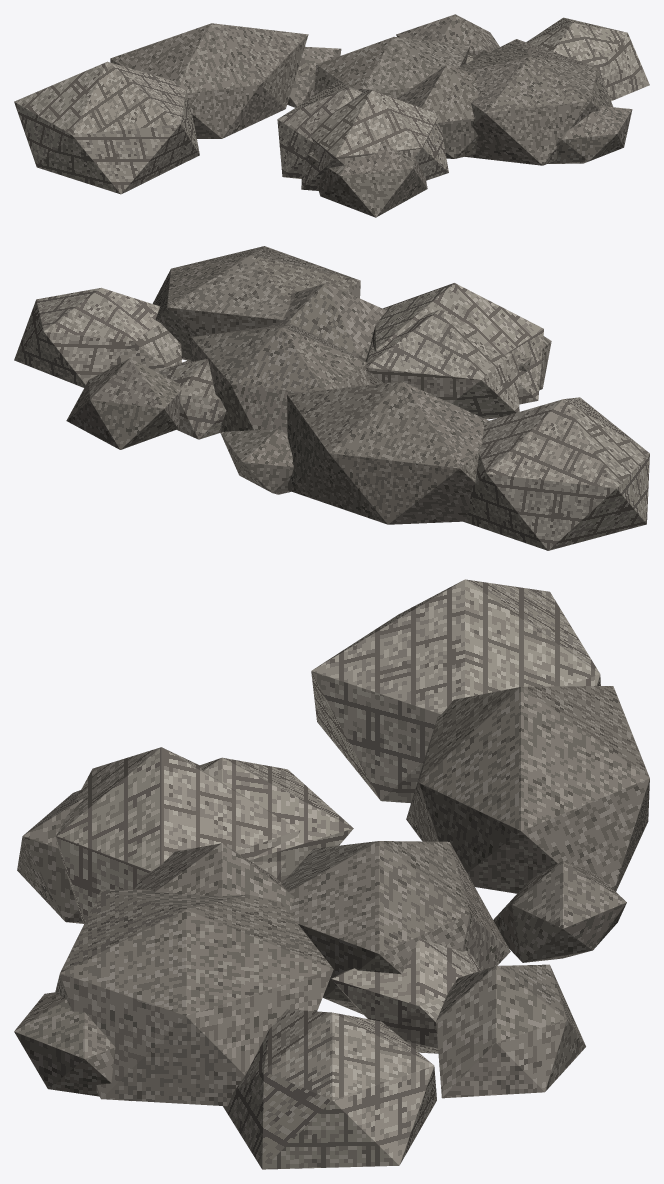
The model's file is rubble_stone.glb.
The picture shows the model from 3 angles, top to bottom: view 1: azimuth 30°, elevation 25°; view 2: azimuth 150°, elevation 25°; view 3: azimuth 270°, elevation 25°; orthographic projection. The views are drawn at different scales.
Parts seen in each view (by area): view 1: Body.002; view 2: Body.002; view 3: Body.002.
Boxes of the visible parts, x1,y1,x2,y2 form: Body.002: (14,14,649,217); Body.002: (14,246,649,550); Body.002: (14,579,649,1169).
Bounding box in the file's own units: 3.13 × 0.6673 × 1.77.
2 materials, 2 textured.
